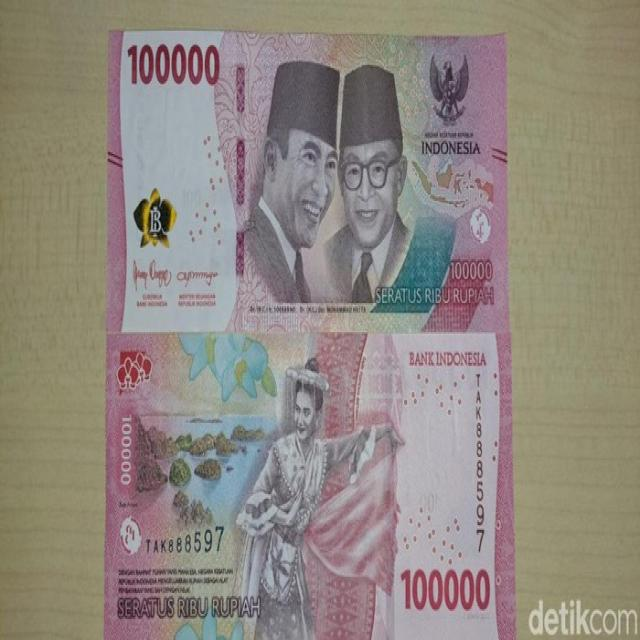seratus ribu rupiah: (106, 335, 515, 640), (107, 27, 509, 333)
